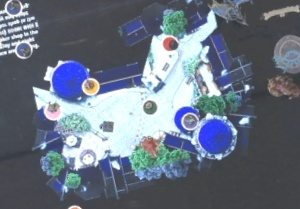blue: (10, 38, 33, 62)
green: (138, 96, 161, 118)
orange: (62, 201, 86, 209)
pink: (41, 99, 63, 122)
red: (158, 31, 181, 53)
violet: (178, 109, 200, 132)
yellow: (79, 74, 101, 97)
